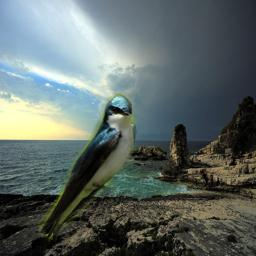Swallow: (38, 93, 138, 244)
